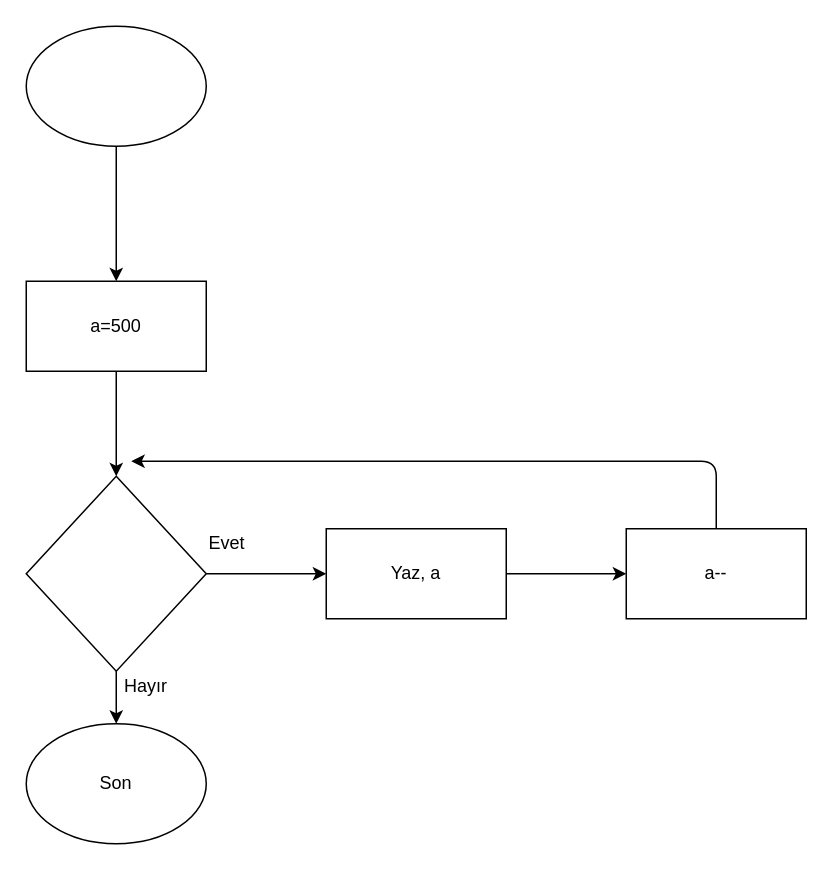
Image size: 833x870. Some labels were removed from this diagram. The centre of each missing label's shape, as x and y in pixels:
a>100: the point at 115,573
Başla: the point at 115,85
